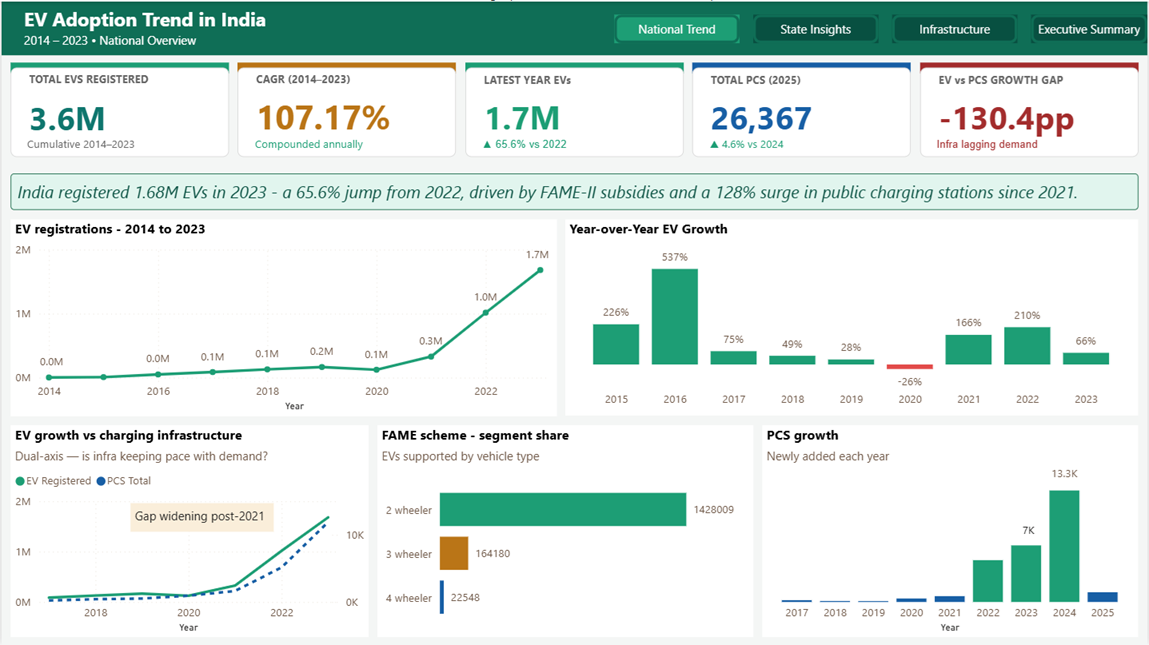

Layout of this report page (visuals, bound fields, positions):
{"tool":"powerbi","page":{"name":"National Trend","canvas":[1280,720],"ordinal":0},"visuals":[{"type":"shape","box":[0,0,1280,60],"z":0},{"type":"textbox","box":[20,0,872,64],"z":1000},{"type":"actionButton","box":[685,14,140,32],"z":2000},{"type":"actionButton","box":[840,14,140,32],"z":3000},{"type":"actionButton","box":[995,14,140,32],"z":4000},{"type":"actionButton","box":[1150,14,130,32],"z":5000},{"type":"shape","box":[10,68,244,12],"z":6000},{"type":"cardVisual","fields":{"Data":["Year-wise EV Registrations.Total EVs"]},"box":[10,74,244,100],"z":7000},{"type":"textbox","box":[16,144,244,80],"z":8000},{"type":"shape","box":[264,68,244,12],"z":9000},{"type":"cardVisual","fields":{"Data":["Year-wise EV Registrations.EV CAGR %"]},"box":[264,74,244,100],"z":10000},{"type":"textbox","box":[270,144,244,80],"z":11000},{"type":"shape","box":[518,68,244,12],"z":12000},{"type":"cardVisual","fields":{"Data":["Year-wise EV Registrations.Latest Year EVs"]},"box":[518,74,244,100],"z":13000},{"type":"textbox","box":[524,144,244,80],"z":14000},{"type":"shape","box":[772,68,244,12],"z":15000},{"type":"cardVisual","fields":{"Data":["Year-wise EVPCS.Total PCS"]},"box":[772,74,244,100],"z":16000},{"type":"textbox","box":[778,144,244,80],"z":17000},{"type":"shape","box":[1026,68,244,12],"z":18000},{"type":"cardVisual","fields":{"Data":["Year-wise EV Registrations.EV vs PCS Growth Gap Display"]},"box":[1026,74,244,100],"z":19000},{"type":"textbox","box":[1032,144,244,80],"z":20000},{"type":"textbox","box":[10,192,1260,41],"z":21000},{"type":"clusteredColumnChart","title":"Year-over-Year EV Growth ","fields":{"Category":["Year-wise EV Registrations.Year"],"Y":["Year-wise EV Registrations.YoY EV Growth %"]},"box":[630,243,640,219],"z":22000},{"type":"lineChart","title":"EV growth vs charging infrastructure","fields":{"Y":["Year-wise EV Registrations.Total EVs"],"Y2":["Sum(Year-wise EVPCS.PCS_Total)"],"Category":["Date_Dim.Year"]},"box":[10,473,400,237],"z":23000},{"type":"clusteredBarChart","title":"FAME scheme - segment share","fields":{"Category":["Segment-wise EV Support (FAME Scheme).Segment"],"Y":["Sum(Segment-wise EV Support (FAME Scheme).EV_Supported)"]},"box":[420,473,420,237],"z":24000},{"type":"clusteredColumnChart","title":"PCS growth","fields":{"Category":["Year-wise EVPCS.Year"],"Y":["Sum(Year-wise EVPCS.PCS_Newly_Added)"]},"box":[850,473,420,237],"z":25000},{"type":"lineChart","title":"EV registrations - 2014 to 2023","fields":{"Y":["Year-wise EV Registrations.Total EVs"],"Category":["Year-wise EV Registrations.Year"]},"box":[10,243,610,220],"z":26000},{"type":"textbox","box":[144,560,160,32],"z":27000},{"type":"textbox","box":[1168,512,96,48],"z":28000},{"type":"textbox","box":[1136,576,64,32],"z":29000}]}

Visuals, with their boxes in screenshot pixels (x1, y1, x2, y2), scaled from the page's 1280x720 canvas onto the 1149x645 screenshot:
shape: l=0, t=0, r=1148, b=54
textbox: l=18, t=0, r=801, b=57
actionButton: l=615, t=13, r=741, b=41
actionButton: l=754, t=13, r=880, b=41
actionButton: l=893, t=13, r=1019, b=41
actionButton: l=1032, t=13, r=1148, b=41
shape: l=9, t=61, r=228, b=72
cardVisual - Year-wise EV Registrations.Total EVs: l=9, t=66, r=228, b=156
textbox: l=14, t=129, r=233, b=201
shape: l=237, t=61, r=456, b=72
cardVisual - Year-wise EV Registrations.EV CAGR %: l=237, t=66, r=456, b=156
textbox: l=242, t=129, r=461, b=201
shape: l=465, t=61, r=684, b=72
cardVisual - Year-wise EV Registrations.Latest Year EVs: l=465, t=66, r=684, b=156
textbox: l=470, t=129, r=689, b=201
shape: l=693, t=61, r=912, b=72
cardVisual - Year-wise EVPCS.Total PCS: l=693, t=66, r=912, b=156
textbox: l=698, t=129, r=917, b=201
shape: l=921, t=61, r=1140, b=72
cardVisual - Year-wise EV Registrations.EV vs PCS Growth Gap Display: l=921, t=66, r=1140, b=156
textbox: l=926, t=129, r=1145, b=201
textbox: l=9, t=172, r=1140, b=209
"Year-over-Year EV Growth " clusteredColumnChart: l=566, t=218, r=1140, b=414
"EV growth vs charging infrastructure" lineChart: l=9, t=424, r=368, b=636
"FAME scheme - segment share" clusteredBarChart: l=377, t=424, r=754, b=636
"PCS growth" clusteredColumnChart: l=763, t=424, r=1140, b=636
"EV registrations - 2014 to 2023" lineChart: l=9, t=218, r=557, b=415
textbox: l=129, t=502, r=273, b=530
textbox: l=1048, t=459, r=1135, b=502
textbox: l=1020, t=516, r=1077, b=545
